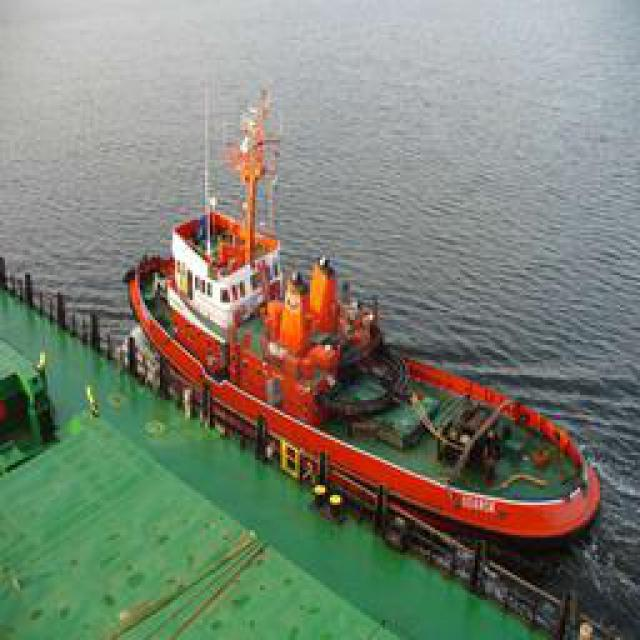Ship: (120, 89, 610, 594)
